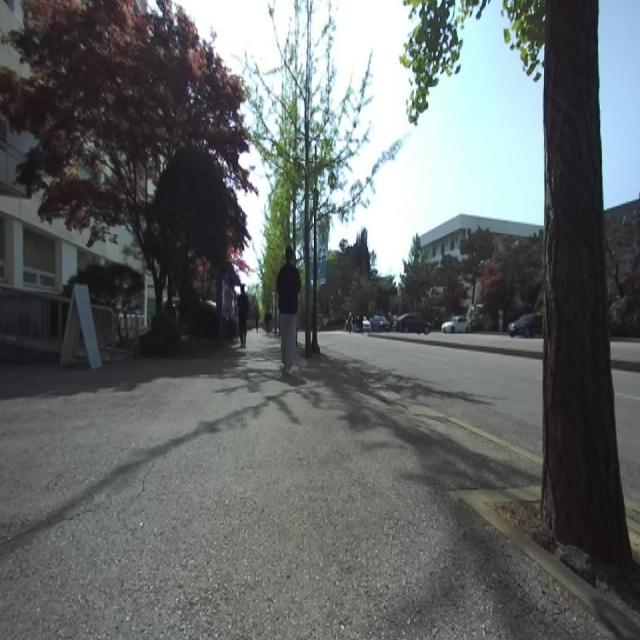sidewalk: (0, 332, 612, 639)
